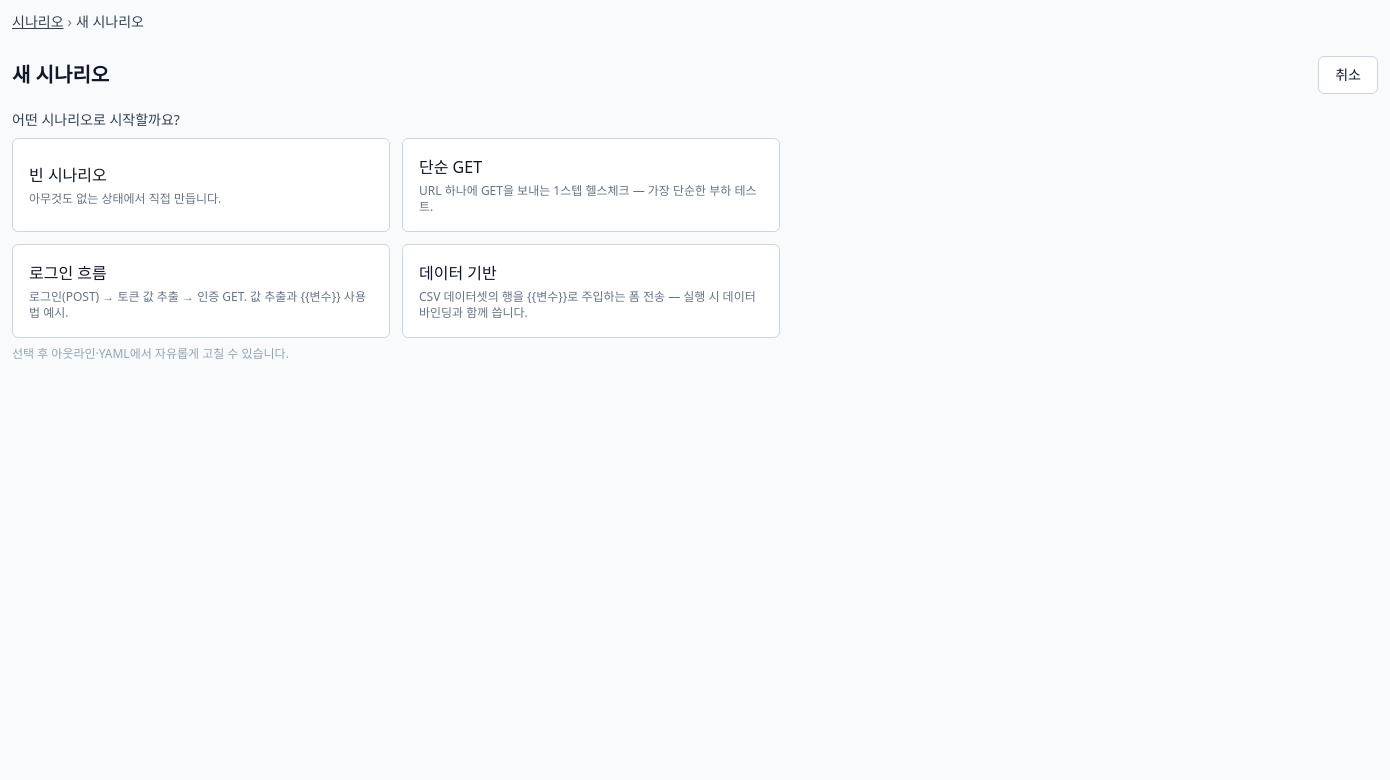
Test: ScenarioNewPage 템플릿 갤러리 (U3) › 템플릿 선택 시 그 YAML이 시드된 에디터로 진입한다 (단순 GET → 헬스체크 노드)
Click the button "단순 GET URL 하나에 GET을 보내는 1스텝 헬스체크 — 가장 단순한 부하 테스트.". click: (591,185)
box: [402, 138, 780, 232]
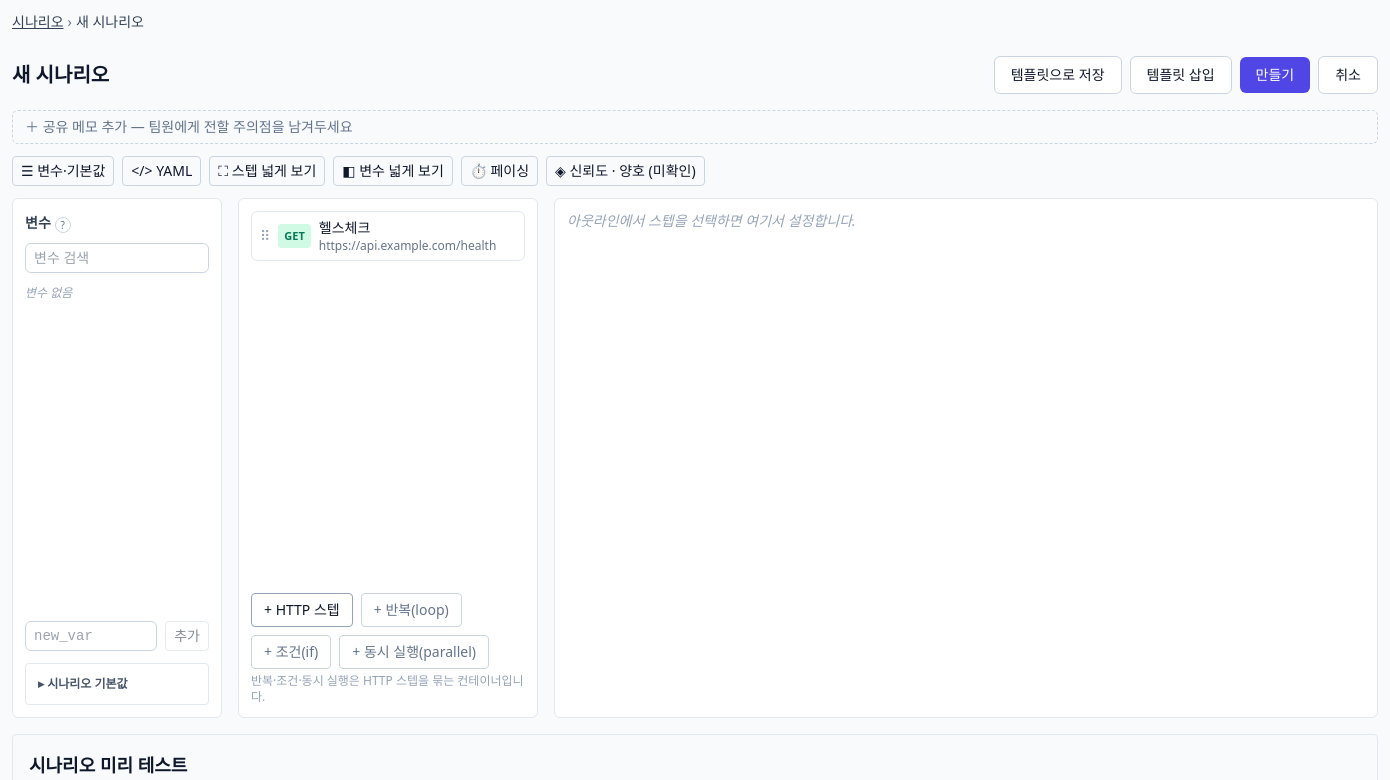
Expected: the option with aria-label "스텝: 헬스체크" is shown, [251, 211, 525, 261]
Expected: the button "만들기" is shown, [1240, 57, 1310, 93]
